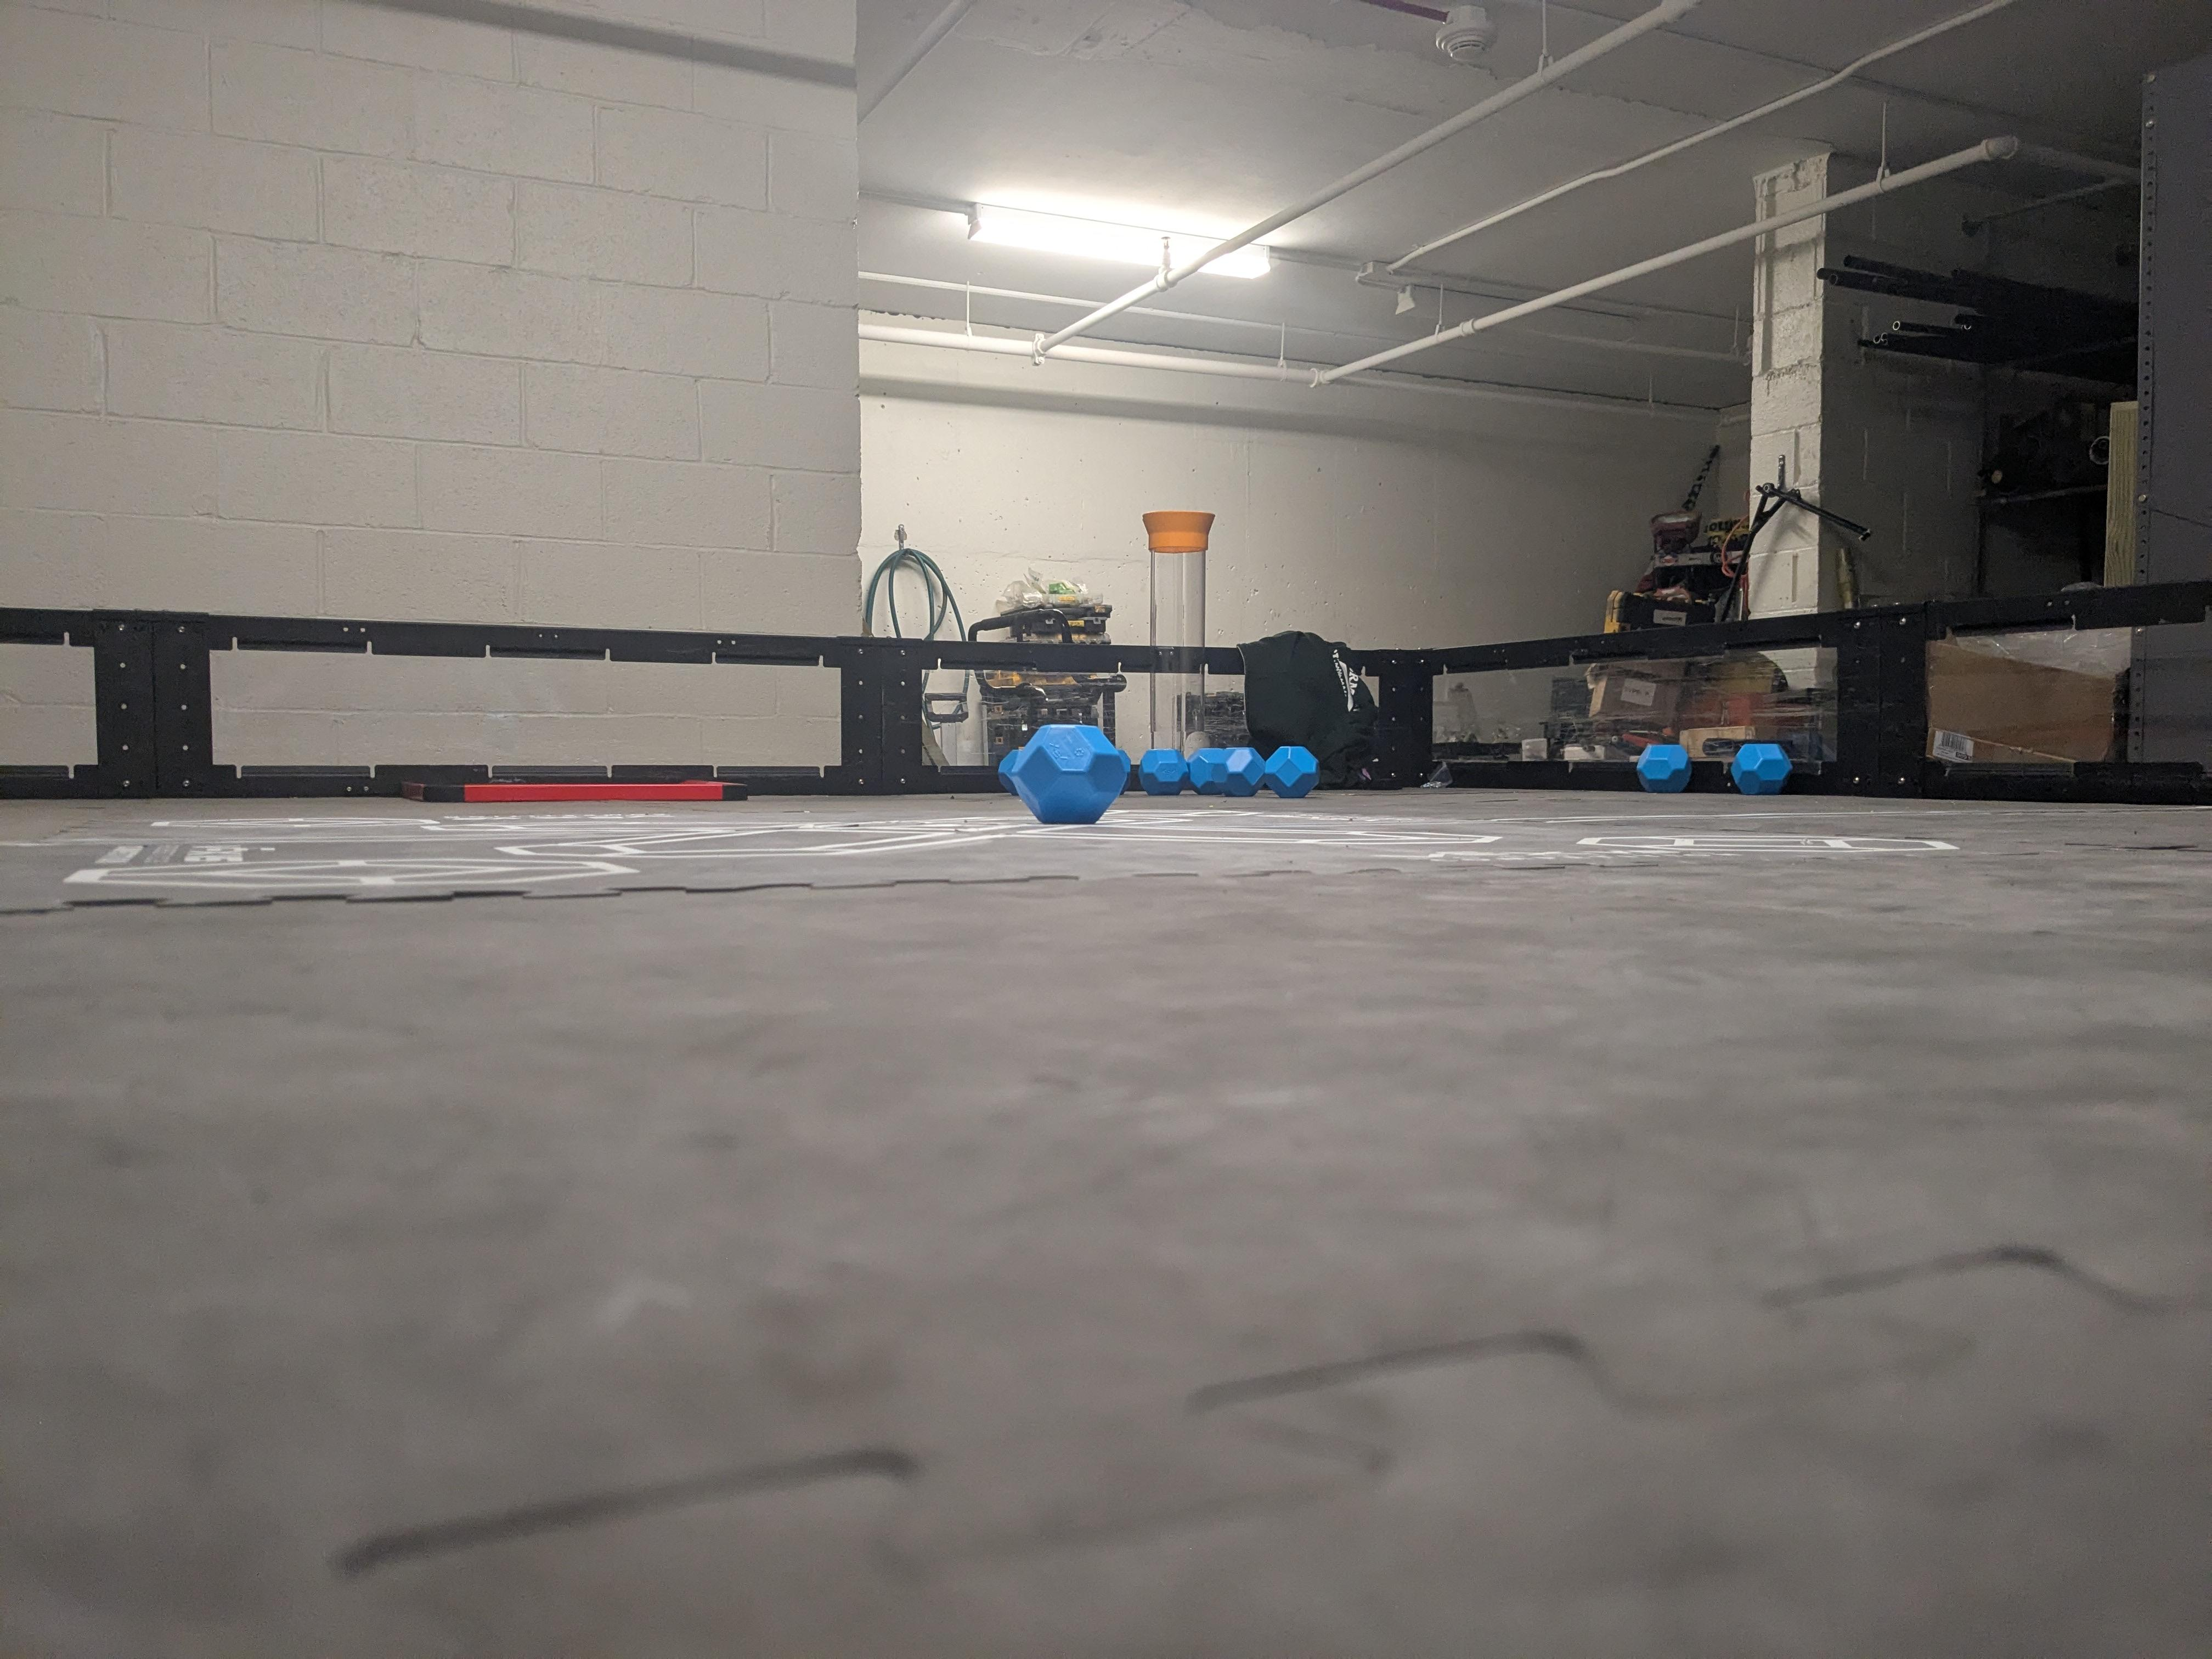Vex-Pieces-BLUE: (998, 725, 1130, 826), (1190, 748, 1263, 796), (1730, 742, 1791, 795), (1259, 746, 1318, 798), (1637, 742, 1689, 793), (1139, 748, 1190, 795), (1188, 749, 1230, 795)
